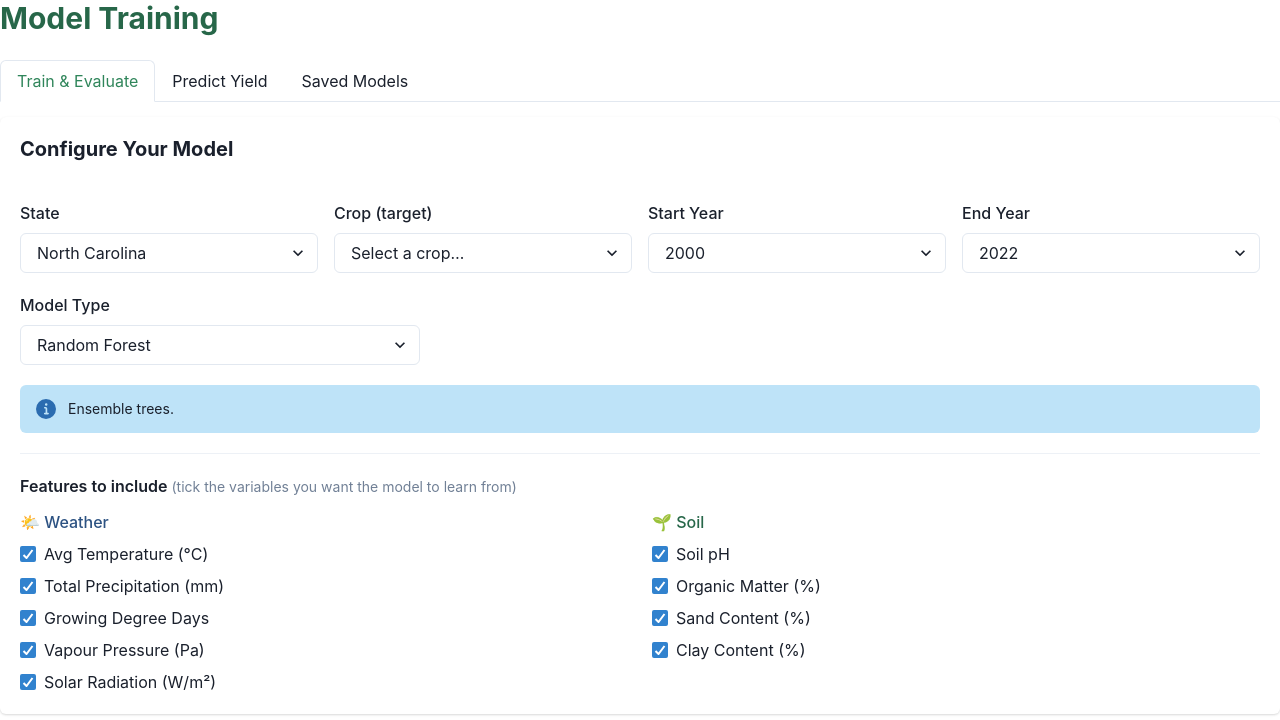
Test: Model page – structure › shows an error alert when training fails
Select "CORN" in the dropdown labelled "Crop (target)" at point(483, 253), box [334,233,632,273]
(page scrolled)
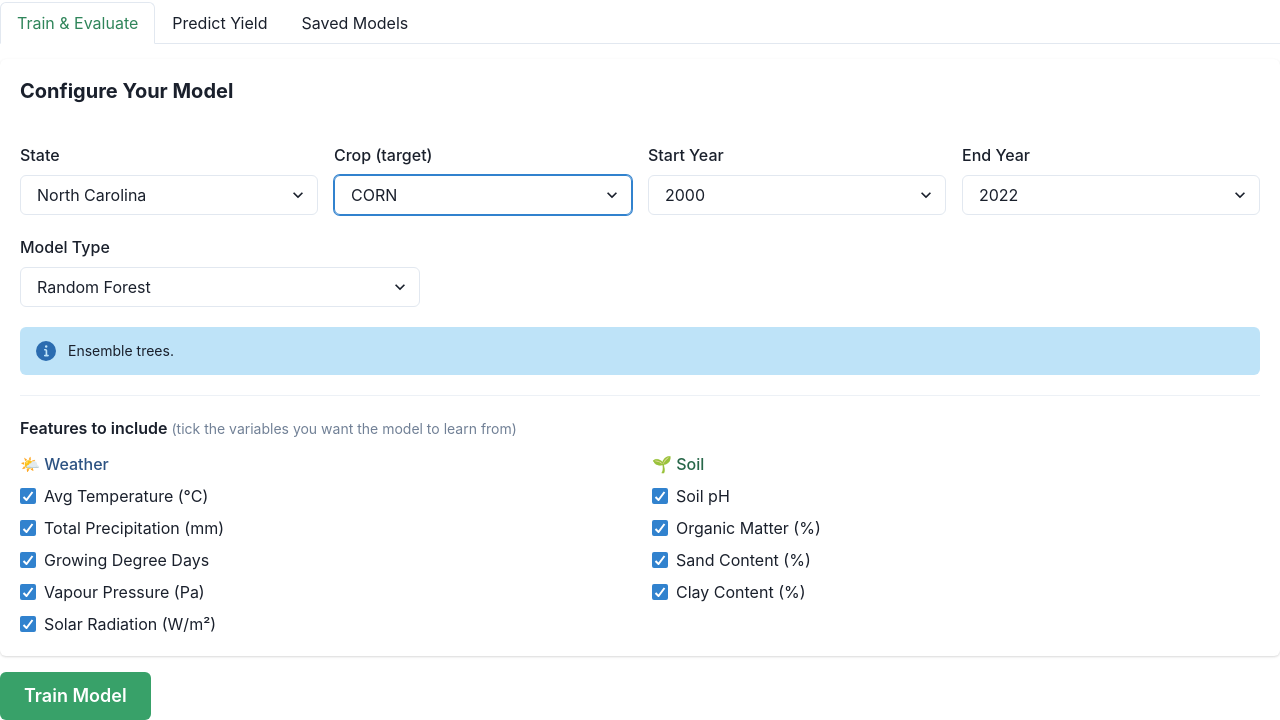
Click the button "Train Model" at point(75, 696), box [0,672,151,719]
(page scrolled)
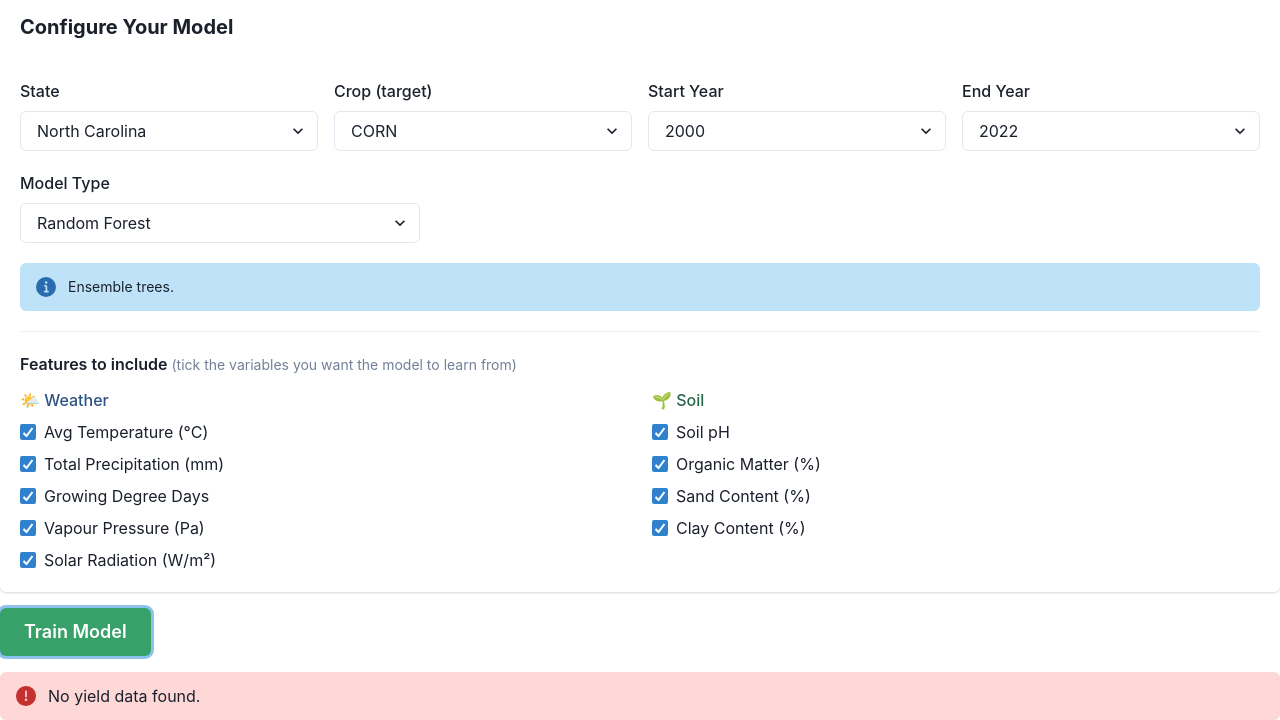
Expected: the text "No yield data found." is shown, [48,684,200,708]
